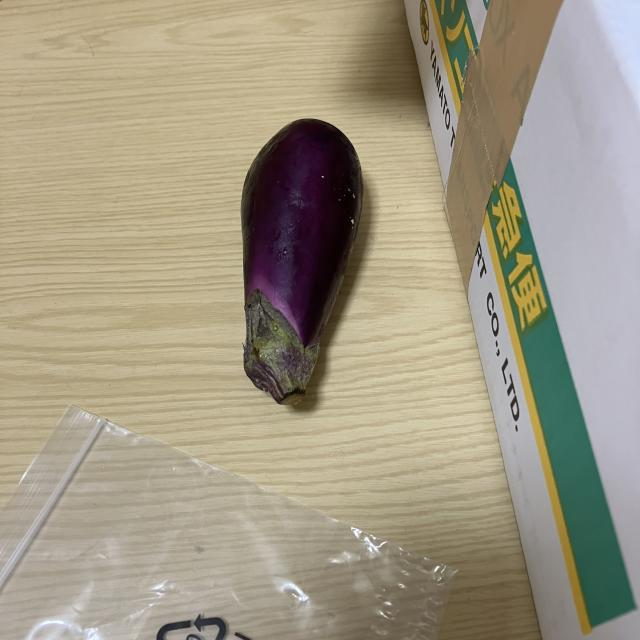eggplant: (237, 114, 367, 404)
